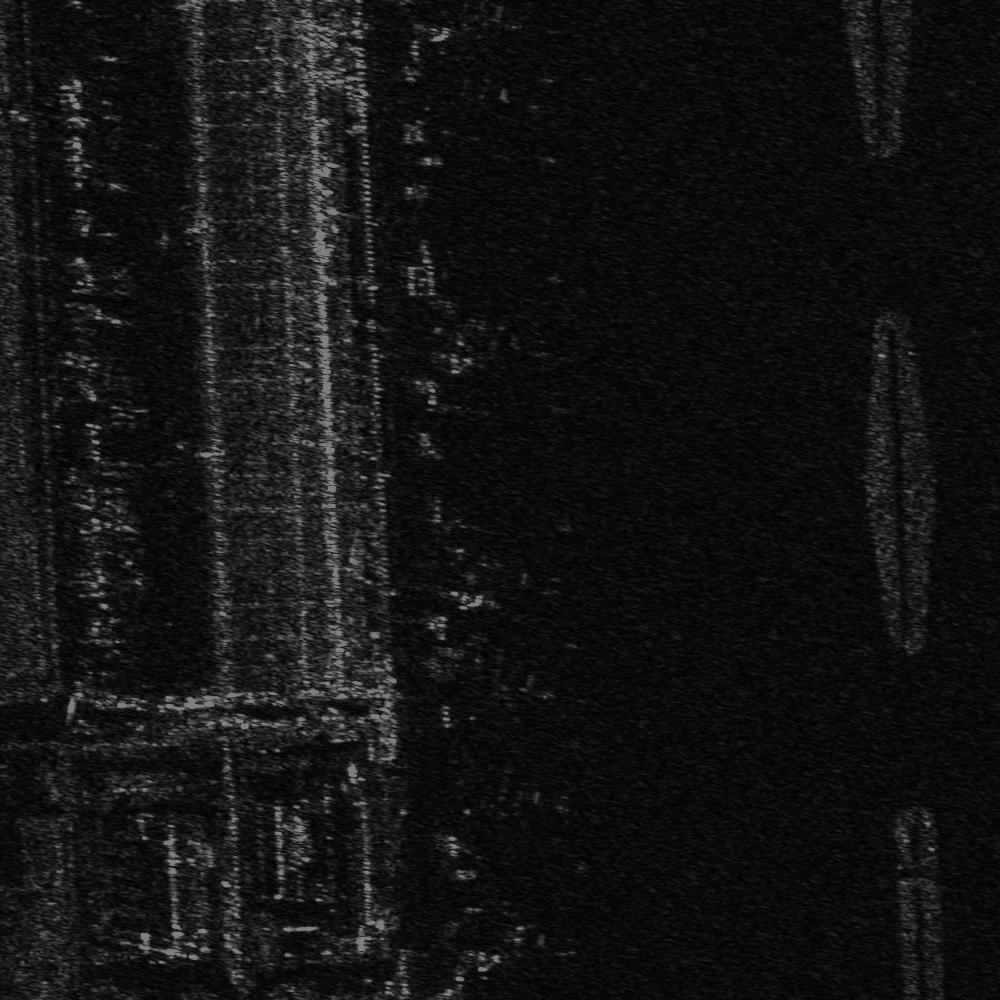A220: (458, 920, 578, 992)
A320/321: (452, 757, 579, 860)
other: (473, 665, 560, 731)
